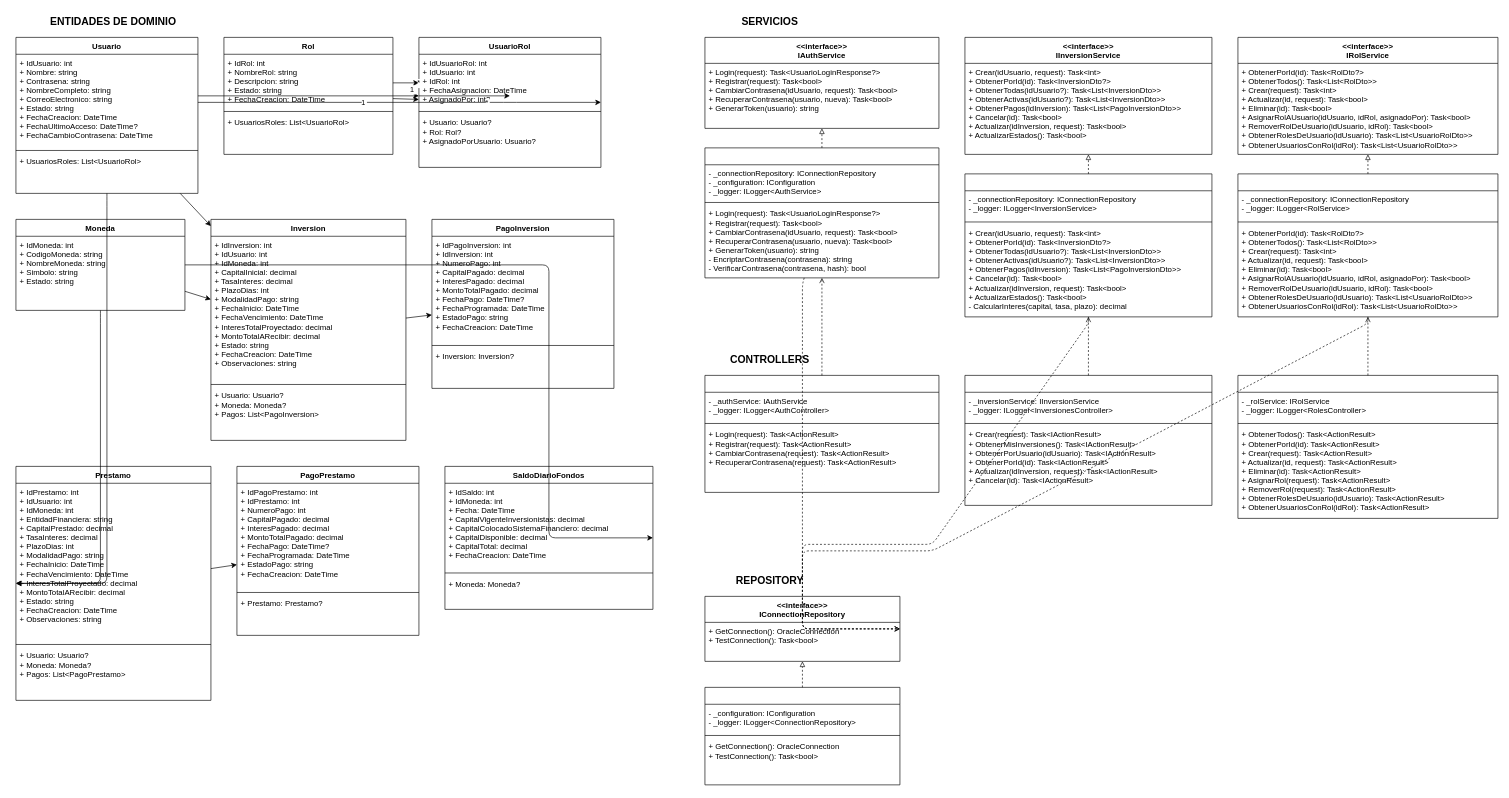
The diagram is 1509 pixels wide and 798 high, and some of its shapes have lost their labels. Here are the shapes that lost their labels. From the top down, the box of each, then its label:
(704, 147, 939, 278): AuthService
(964, 173, 1212, 317): InversionService
(1237, 173, 1498, 317): RolService
(704, 375, 939, 492): AuthController
(964, 375, 1212, 505): InversionesController
(1237, 375, 1498, 518): RolesController
(704, 687, 900, 785): ConnectionRepository
